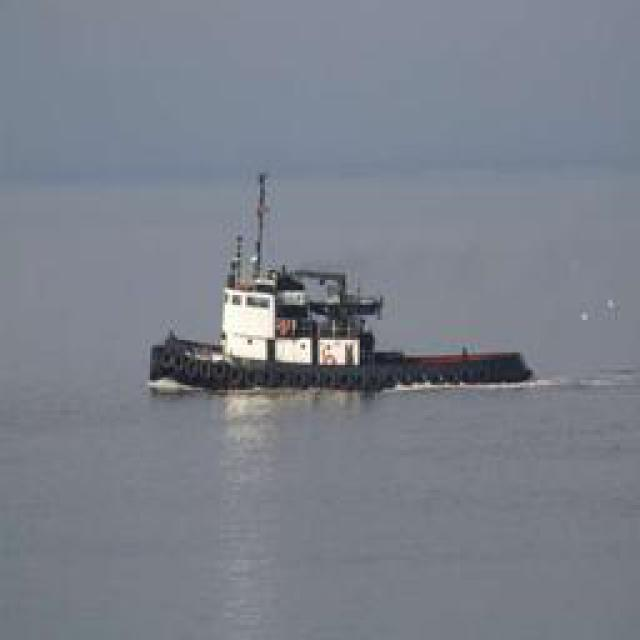Ship: (146, 180, 521, 398)
